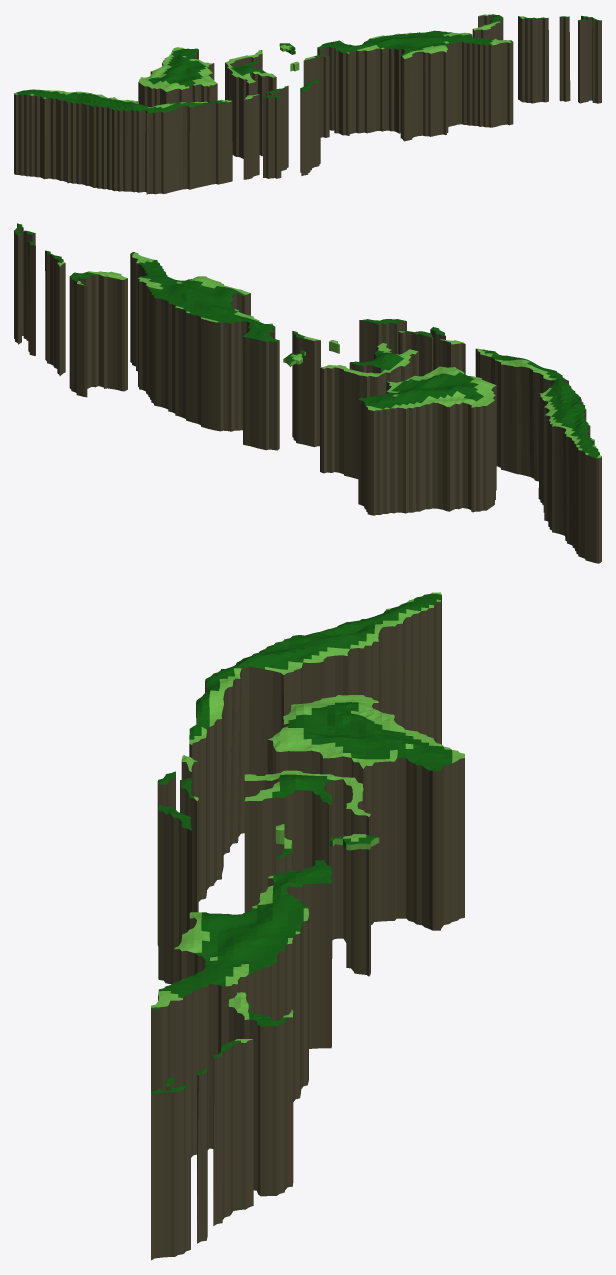
Rendered from world_map_indonesia.fbx.
3 renders of one model, top to bottom at view 1: azimuth 30°, elevation 25°; view 2: azimuth 150°, elevation 25°; view 3: azimuth 270°, elevation 25°, orthographic. The views are drawn at different scales.
Visible parts, largest first — view 1: Indonesia & Papua new guinea; view 2: Indonesia & Papua new guinea; view 3: Indonesia & Papua new guinea.
Part boxes in pixels (x1,y1,x2,y2): Indonesia & Papua new guinea: [14, 14, 601, 194]; Indonesia & Papua new guinea: [14, 223, 601, 563]; Indonesia & Papua new guinea: [151, 592, 464, 1260].
Size of the model in its own units: 810 by 135 by 214.
